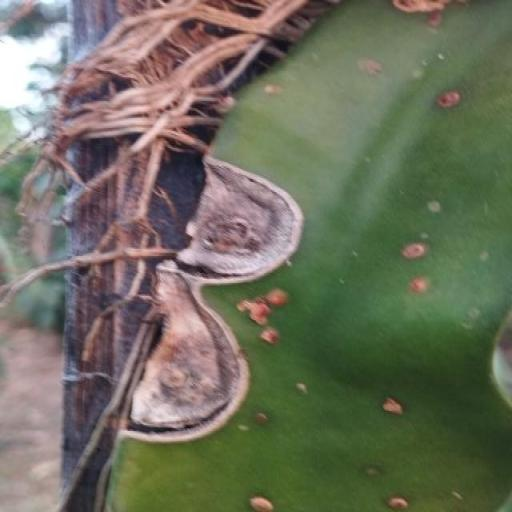stemcanker: (396, 234, 436, 266), (375, 386, 407, 422), (404, 273, 435, 300), (358, 452, 384, 484), (261, 77, 289, 106), (382, 489, 414, 512), (252, 401, 274, 432), (425, 191, 447, 222), (464, 300, 486, 328), (406, 60, 429, 85), (292, 372, 312, 400), (475, 246, 494, 266), (237, 419, 250, 438)
